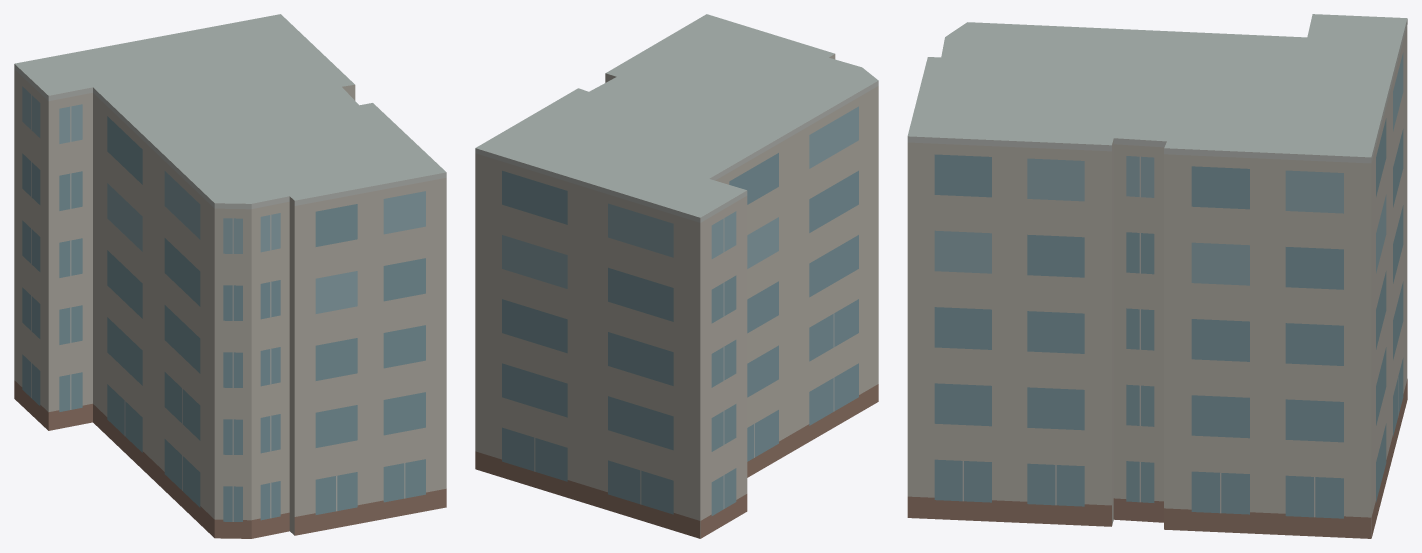
The model's file is survey-upis-32679674.glb.
3 renders of one model, left to right at view 1: azimuth 30°, elevation 25°; view 2: azimuth 150°, elevation 25°; view 3: azimuth 270°, elevation 25°, orthographic. The views are drawn at different scales.
Visible parts, largest first — view 1: survey-upis-32679674.tmp; view 2: survey-upis-32679674.tmp; view 3: survey-upis-32679674.tmp.
Part boxes in pixels (box(x1,y1,x2,y2)): survey-upis-32679674.tmp: box(14, 14, 446, 538); survey-upis-32679674.tmp: box(475, 14, 878, 538); survey-upis-32679674.tmp: box(907, 14, 1407, 538).
Size of the model in its own units: 12.3 by 15.25 by 18.12.
